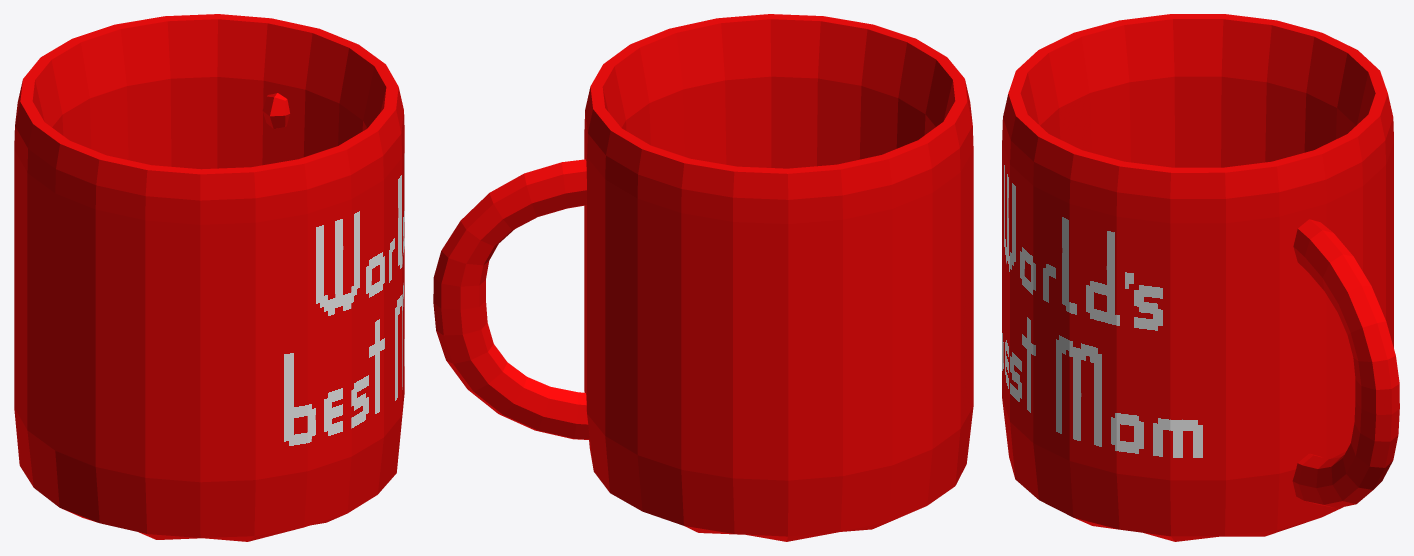
Rendered from worldsbestmom.gltf.
3 renders of one model, left to right at view 1: azimuth 30°, elevation 25°; view 2: azimuth 150°, elevation 25°; view 3: azimuth 270°, elevation 25°, orthographic.
Parts seen in each view (by area): view 1: Plane; view 2: Plane; view 3: Plane.
Part boxes in pixels (x1,y1,x2,y2): Plane: (14, 14, 404, 541); Plane: (433, 14, 973, 541); Plane: (1002, 14, 1399, 541).
Bounding box in the file's own units: 0.0656 × 0.0583 × 0.0539.
2 materials, 1 textured.
